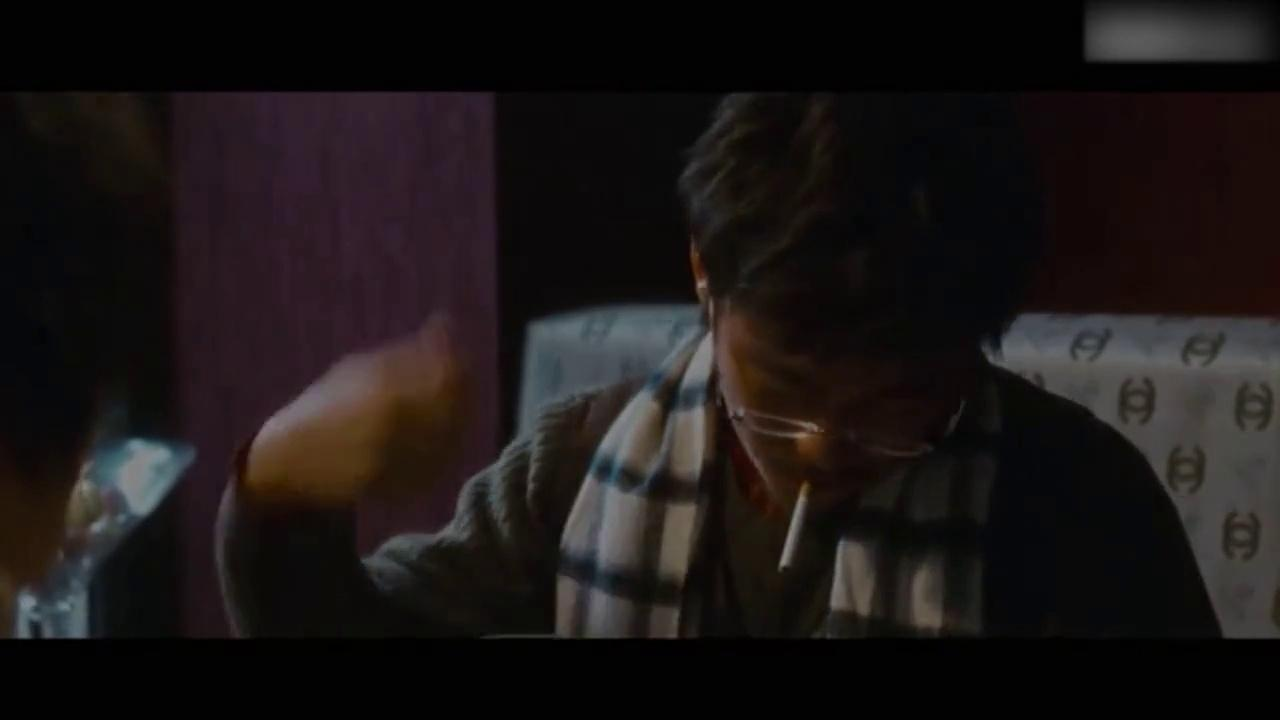smoke: (772, 467, 814, 583)
